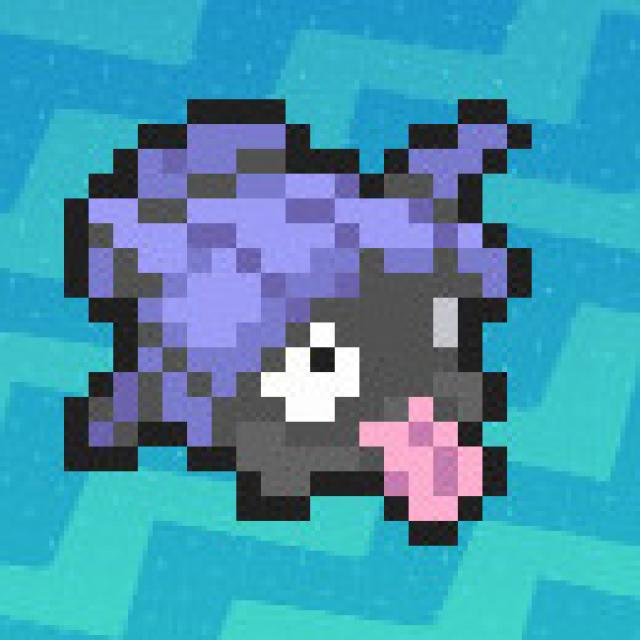Shellder: (64, 96, 530, 552)
